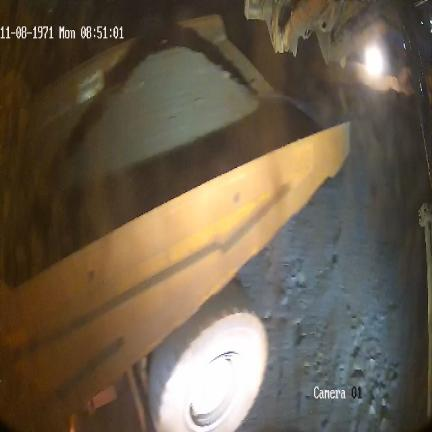pile: (52, 40, 263, 193)
